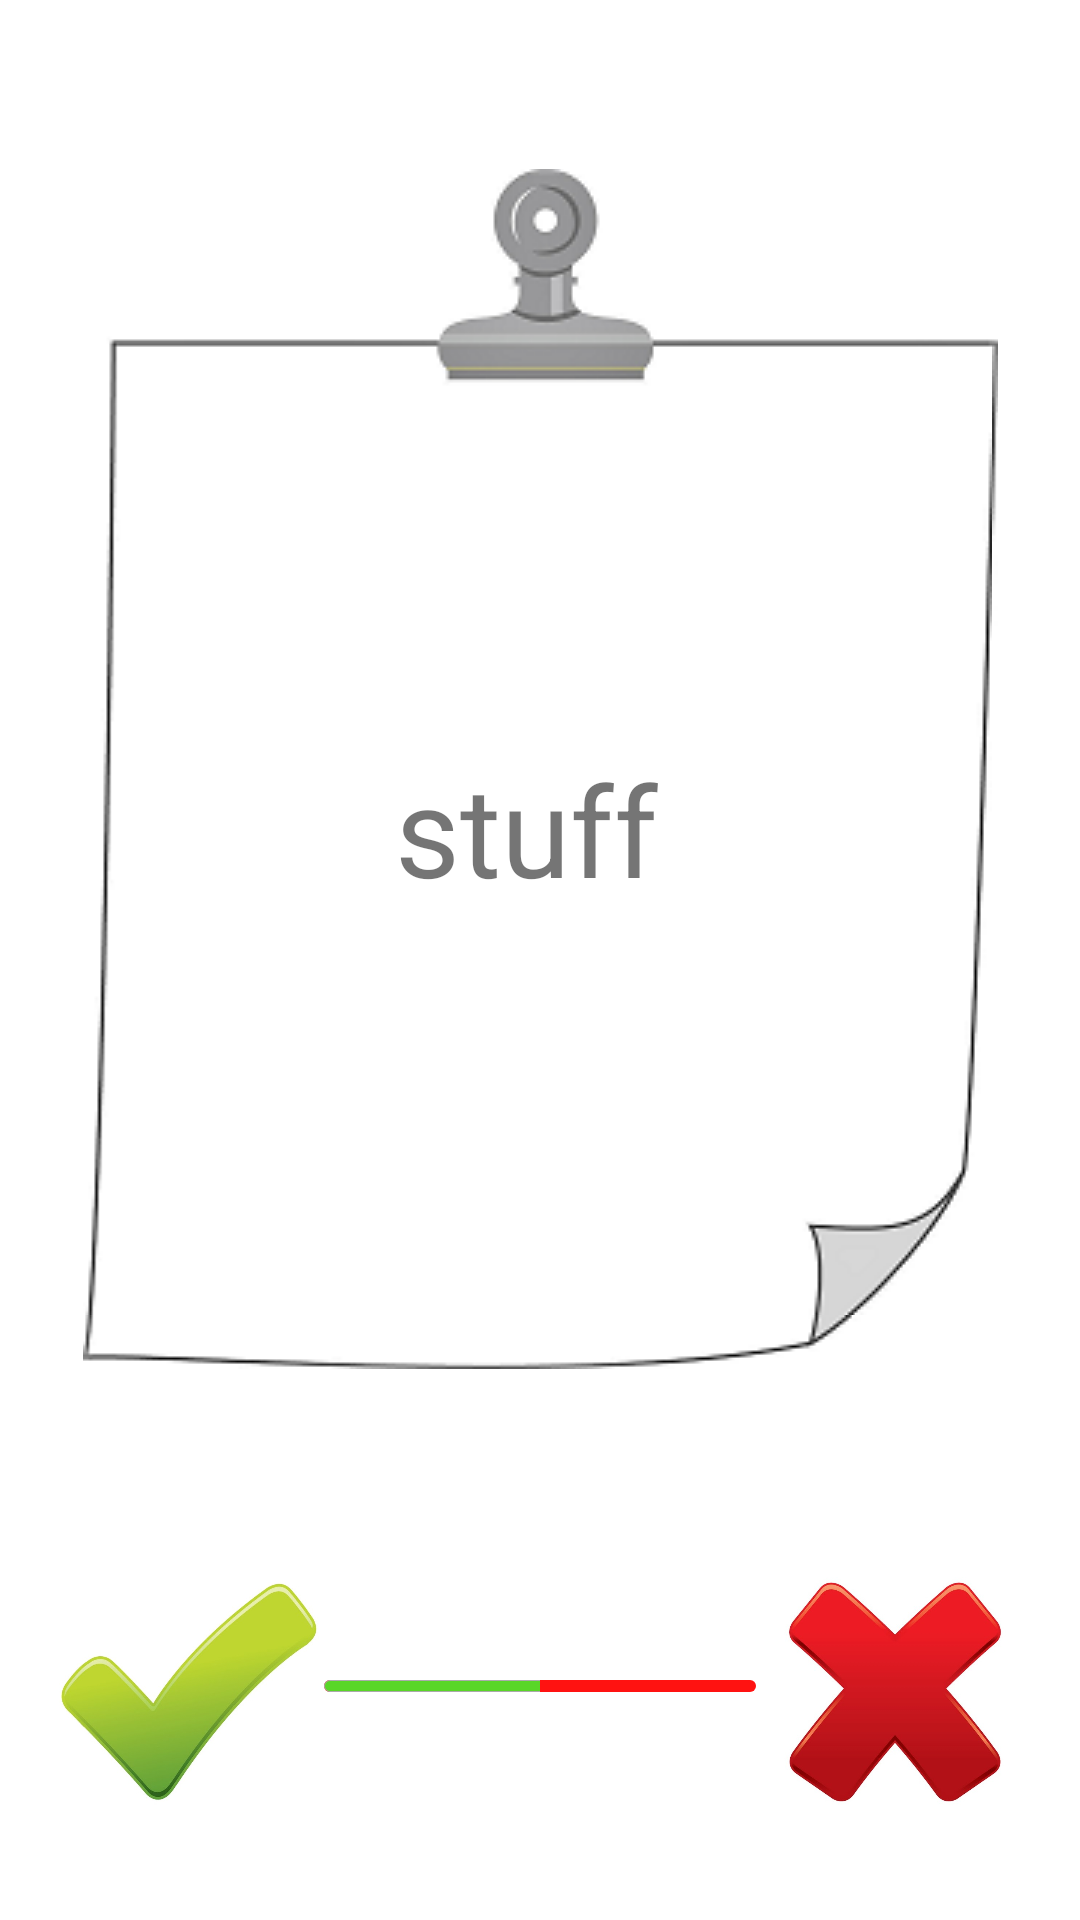

Icons on this 1080*1920 Android screen, each with its box as (x1=x1, y1=y1, x2=x2, y2=y2):
okayimage: (x1=61, y1=1583, x2=317, y2=1800)
ximage: (x1=789, y1=1582, x2=1001, y2=1802)
